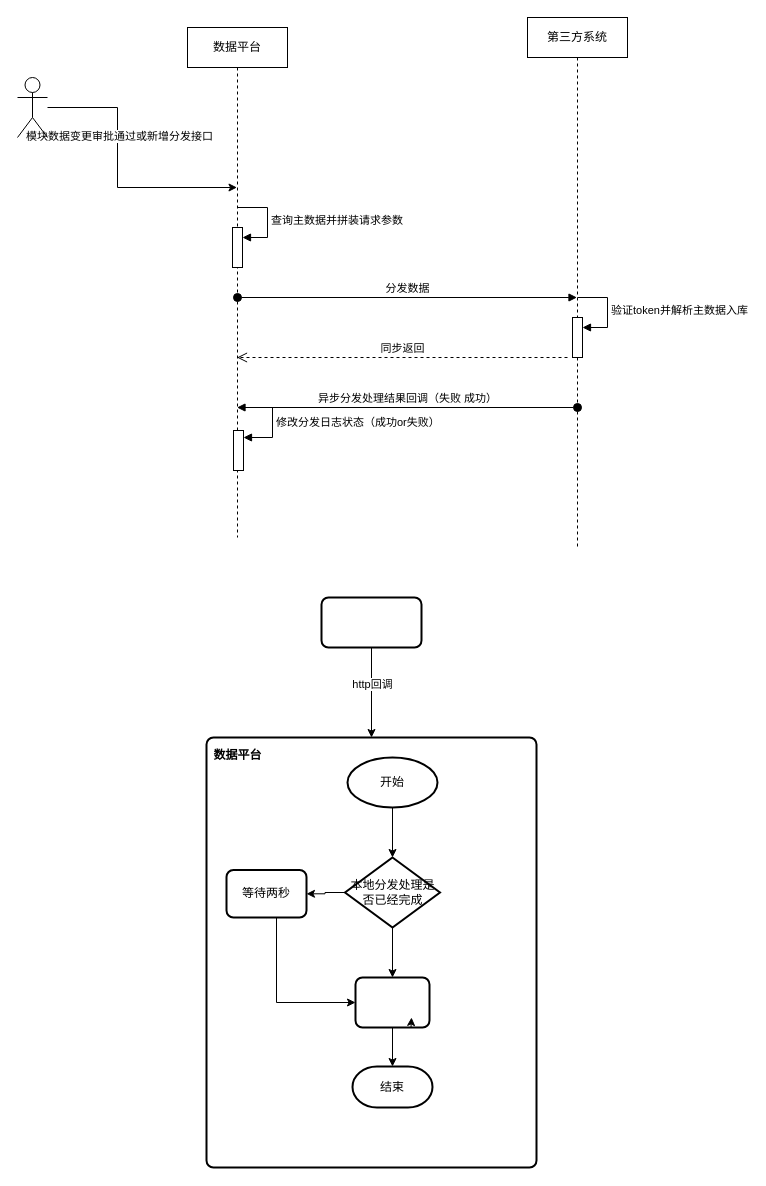
Image size: 766x1186. Some labels were removed from this diagram. Each missing label, with the centre of its shape:
Actor: (x=32, y=107)
修改分发日志调用状态: (x=392, y=1002)
第三方系统分发回调: (x=371, y=622)
